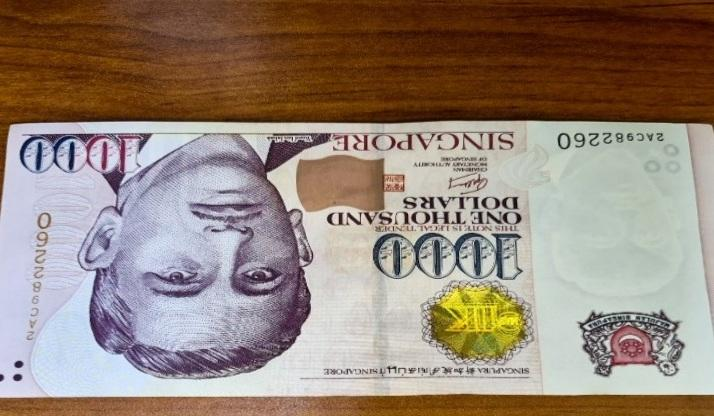1000SingaporeDollar: (0, 123, 714, 393)
